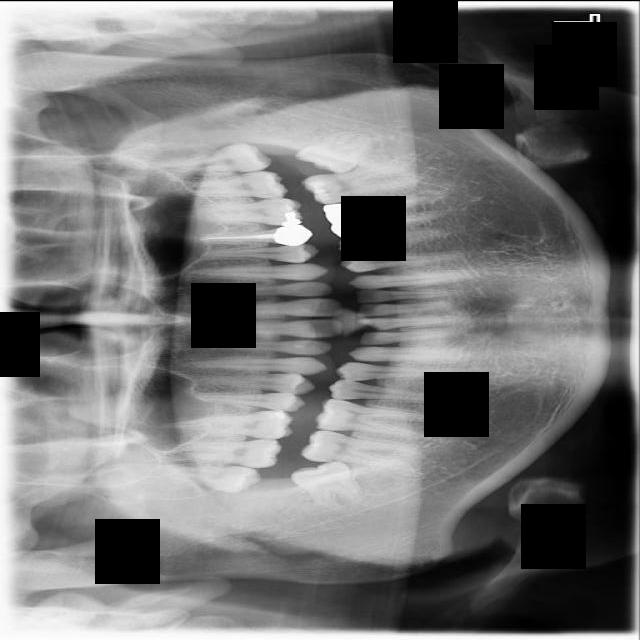3M ESPE Implant: (161, 462, 261, 494)
52: (322, 196, 362, 241), (261, 197, 304, 226), (272, 222, 313, 247)
73: (347, 195, 440, 232), (199, 227, 280, 243), (564, 46, 572, 55)
BioHorizons Implant: (187, 167, 288, 200)
BioLife Implant: (163, 142, 270, 172)
Biomet 3i Implant: (296, 127, 372, 173)
Blue Sky Bio Implant: (300, 159, 418, 208)
Caries: (176, 437, 282, 468)
Implant: (302, 428, 414, 467)
Keystone Dental Implant: (288, 455, 364, 519)
